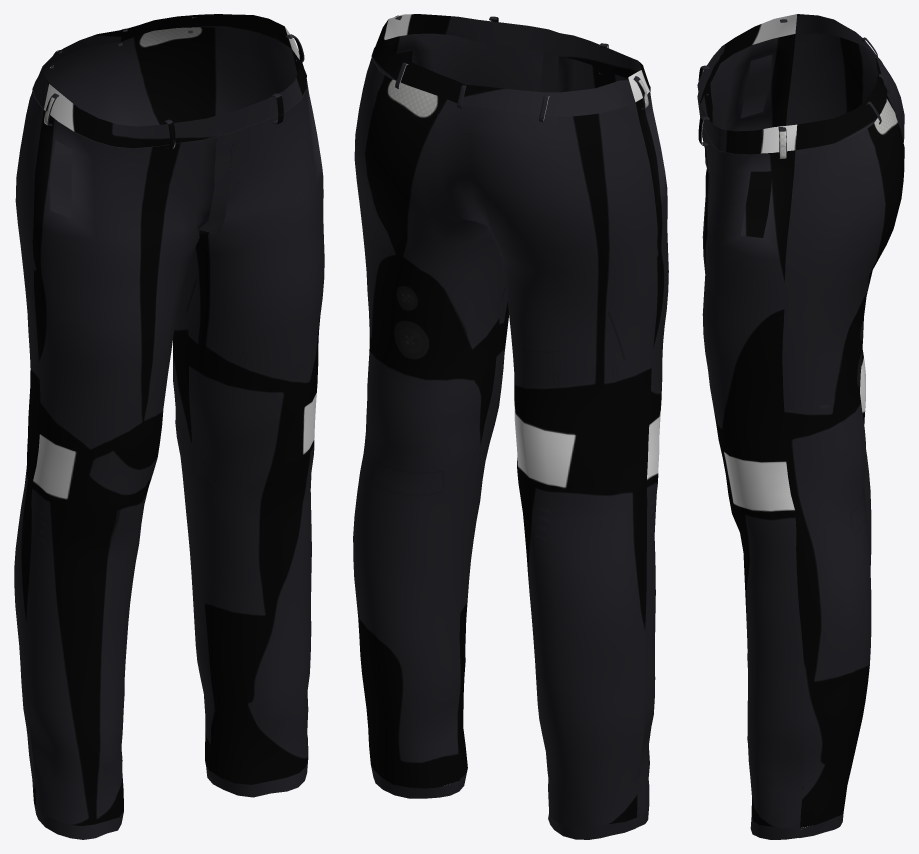
Rendered from male_trousers_better.glb.
The picture shows the model from 3 angles, left to right: view 1: azimuth 30°, elevation 25°; view 2: azimuth 150°, elevation 25°; view 3: azimuth 270°, elevation 25°; orthographic projection. The views are drawn at different scales.
Parts seen in each view (by area): view 1: all; view 2: all; view 3: all.
Part boxes in pixels (x1=…): all: x1=14, y1=14, x2=324, y2=839; all: x1=353, y1=14, x2=668, y2=839; all: x1=697, y1=14, x2=904, y2=839.
Size of the model in its own units: 0.3055 by 0.774 by 0.2026.
1 material, 1 textured.
